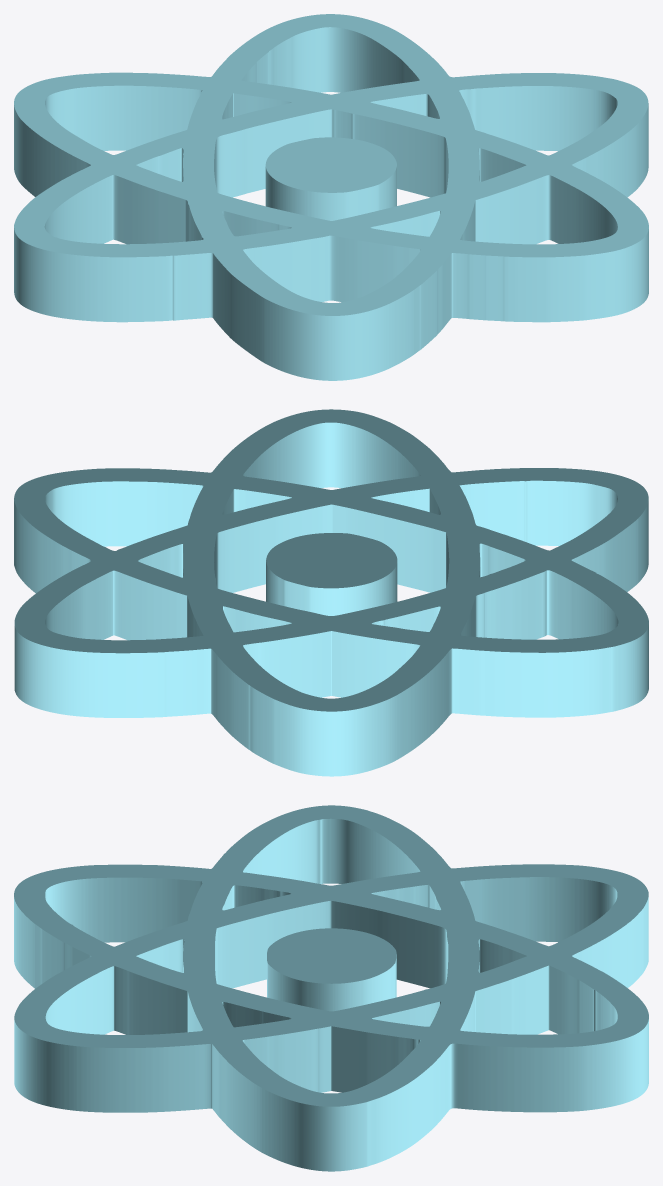
File: react-2.glb
3 views of the same model, one above another, from view 1: azimuth 30°, elevation 25°; view 2: azimuth 150°, elevation 25°; view 3: azimuth 270°, elevation 25° (orthographic).
Visible parts, largest first — view 1: Node1, Node2; view 2: Node1, Node2; view 3: Node1, Node2.
Boxes of the visible parts, x1=… form: Node1: x1=14, y1=14, x2=648, y2=380; Node2: x1=265, y1=137, x2=396, y2=220; Node1: x1=14, y1=409, x2=648, y2=776; Node2: x1=266, y1=533, x2=397, y2=615; Node1: x1=14, y1=805, x2=648, y2=1171; Node2: x1=267, y1=928, x2=396, y2=1011.
Size of what is drawn, in the model's own units: 99.86 by 10 by 88.92.
